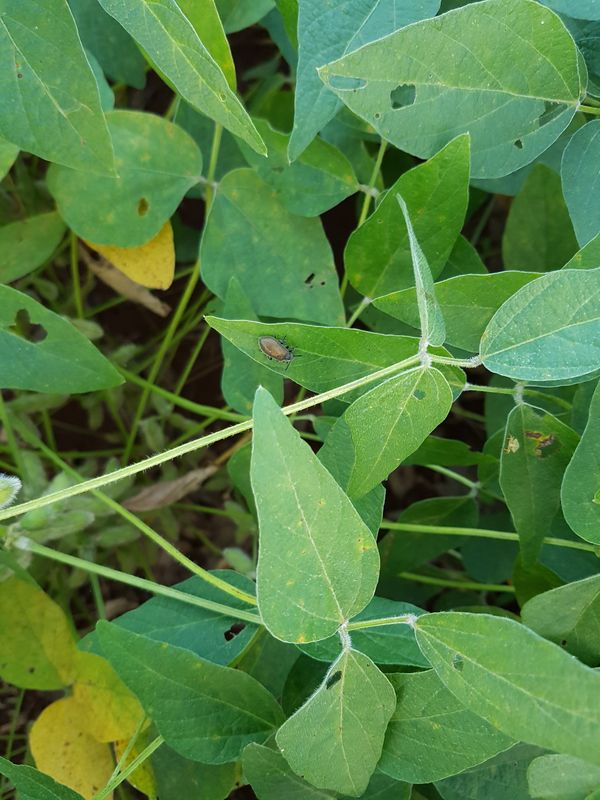Euschistus_heros_ninfa: (499, 431, 523, 459)
Lagria_villosa: (251, 328, 304, 376)
